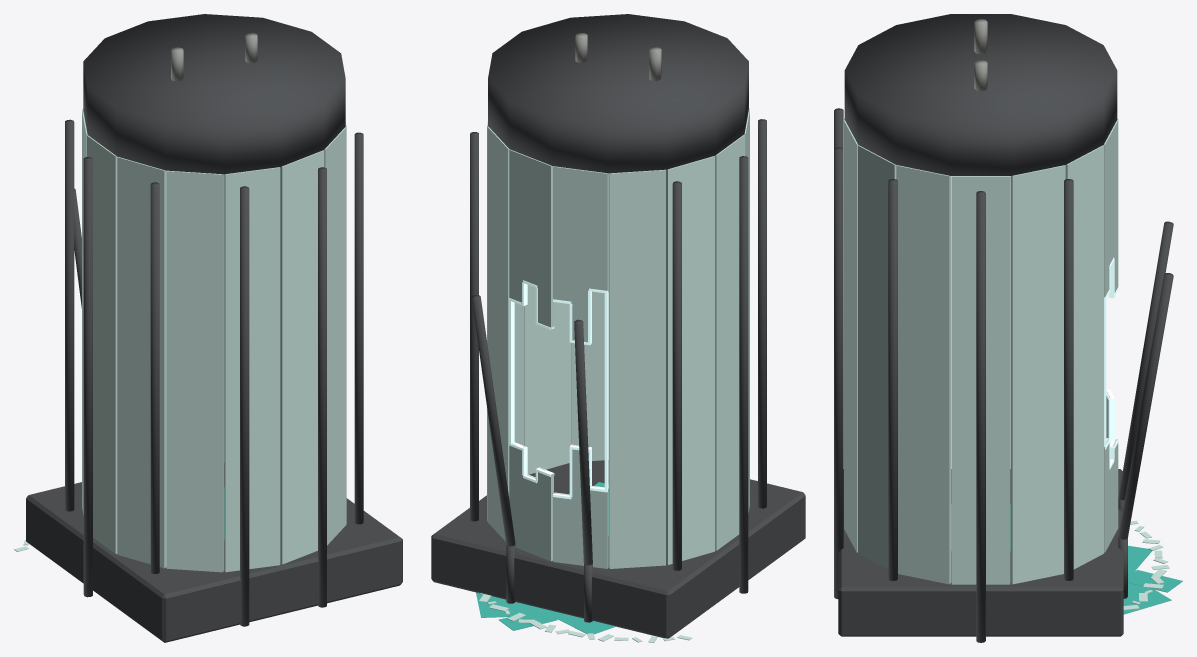
The model's file is concept_containment_tank.glb.
3 renders of one model, left to right at view 1: azimuth 30°, elevation 25°; view 2: azimuth 150°, elevation 25°; view 3: azimuth 270°, elevation 25°, orthographic. The views are drawn at different scales.
Parts seen in each view (by area): view 1: concept_containment_tank; view 2: concept_containment_tank; view 3: concept_containment_tank.
Part boxes in pixels (box(x1,y1,x2,y2)): concept_containment_tank: box(14, 14, 402, 642); concept_containment_tank: box(431, 14, 805, 642); concept_containment_tank: box(834, 14, 1182, 642).
Bounding box in the file's own units: 1.43 × 2.7 × 1.59.
